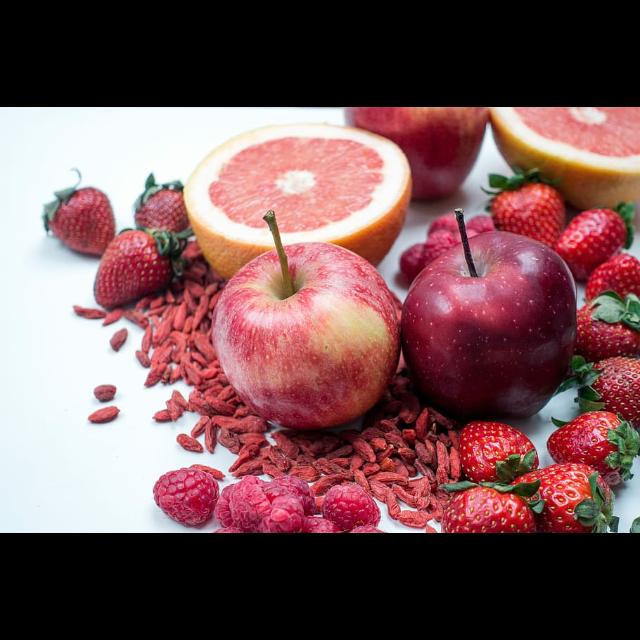Apel Segar: (212, 243, 406, 431), (414, 240, 576, 430)
